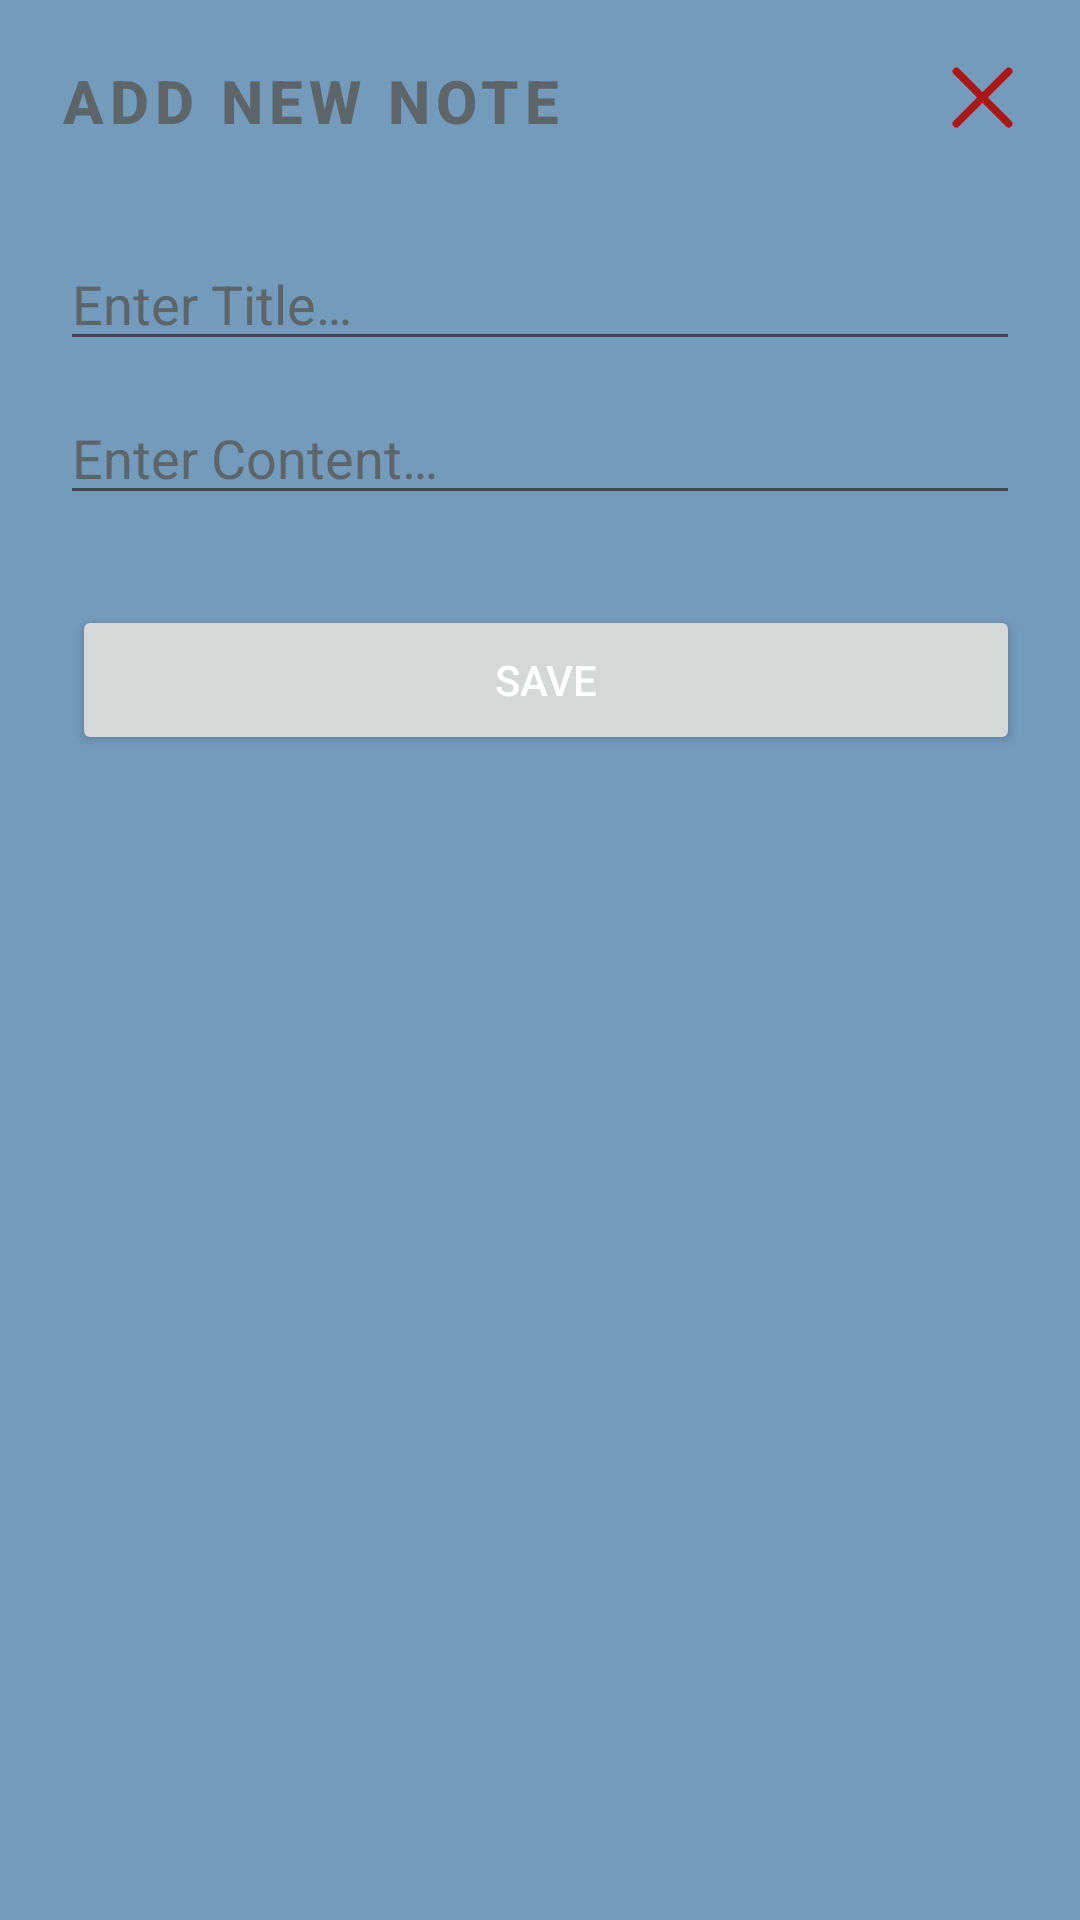

Icon click points for this 1080 × 1920 phone screenshot, format point (x, y):
cancel: point (982, 97)
